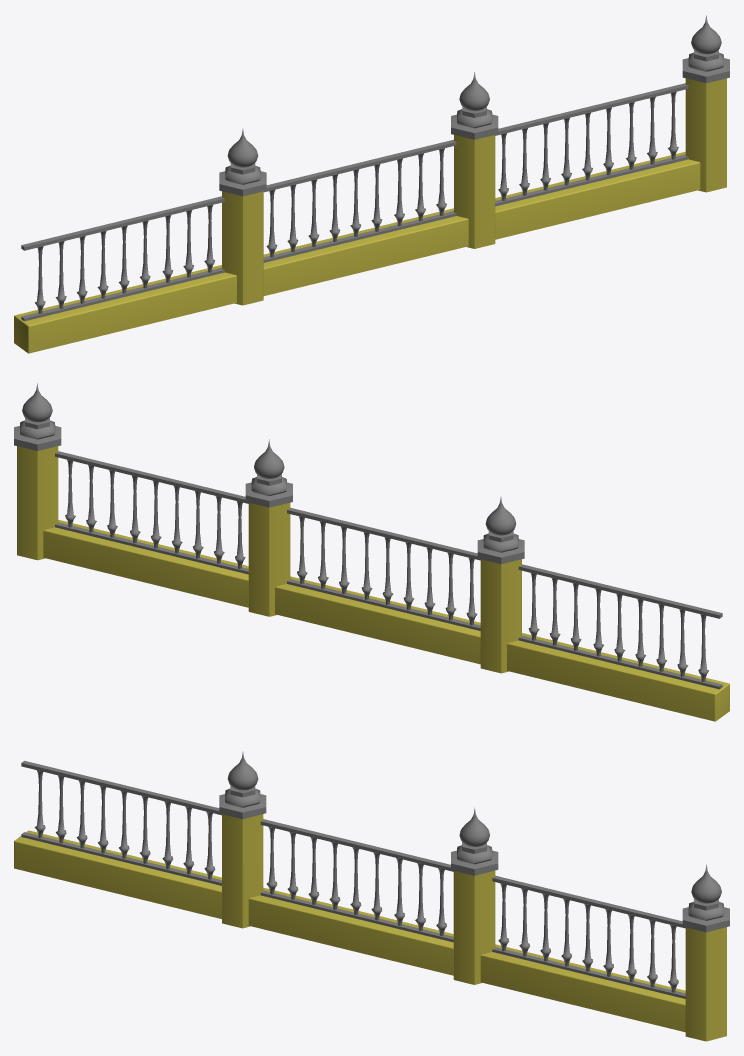
The model's file is SM_wall_preset.fbx.
The picture shows the model from 3 angles, top to bottom: view 1: azimuth 30°, elevation 25°; view 2: azimuth 150°, elevation 25°; view 3: azimuth 330°, elevation 25°; orthographic projection.
Visible parts, largest first — view 1: Object32693; view 2: Object32693; view 3: Object32693.
Part boxes in pixels (x1=…): Object32693: x1=14, y1=15, x2=729, y2=353; Object32693: x1=14, y1=383, x2=729, y2=721; Object32693: x1=14, y1=751, x2=729, y2=1041.
Size of the model in its own units: 405 by 91.64 by 23.35.
